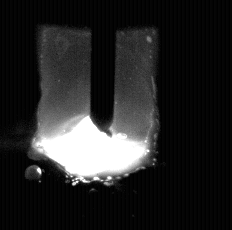arame: (92, 0, 115, 137)
poca: (34, 0, 156, 230)
